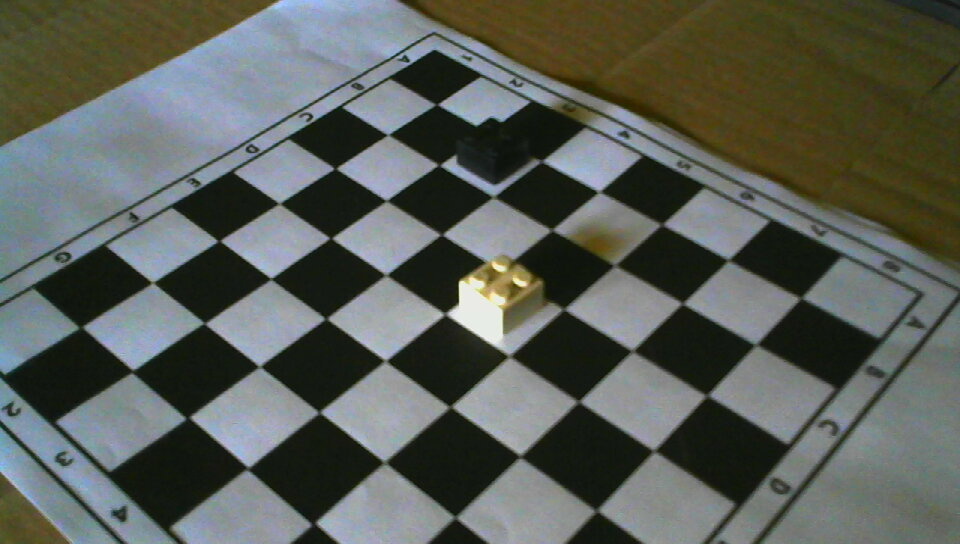bp: (457, 115, 534, 183)
wp: (456, 254, 545, 336)
